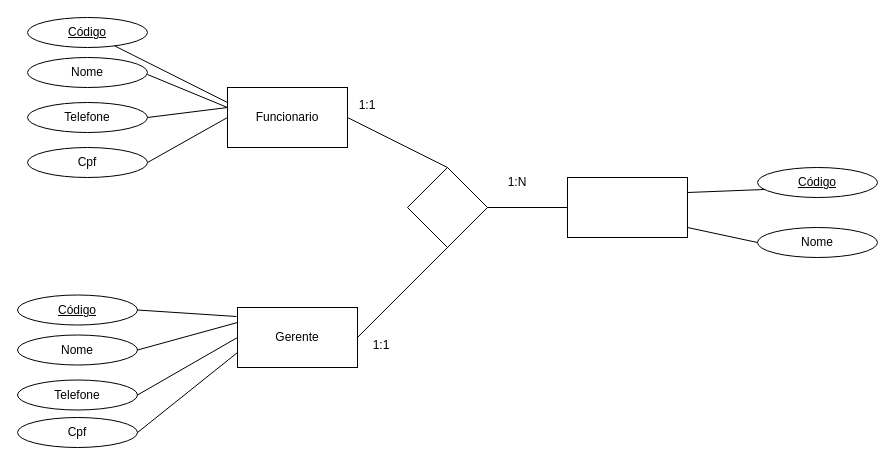
Some shapes in this 895 by 465 pixel diagram are drawn without their labels. Here are the shapes that lost their labels. From the top down, the box of each, then its label:
(406, 166, 488, 248): Trabalha
(566, 176, 688, 238): Departamento
